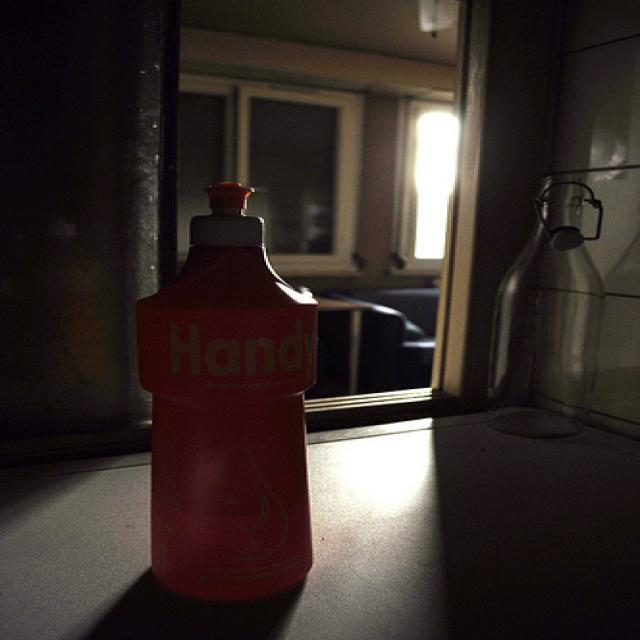Bottle: (132, 154, 361, 607), (453, 135, 640, 446)
